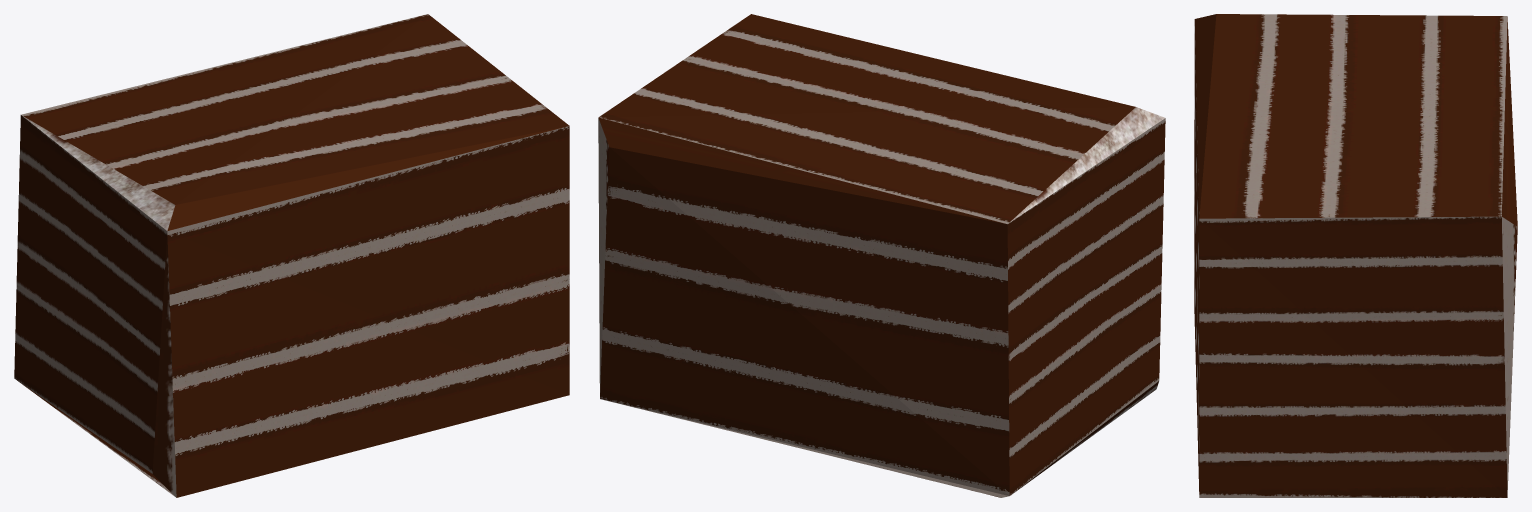
The model's file is snowbox_LOD2.obj.
3 views of the same model, side by side, from view 1: azimuth 30°, elevation 25°; view 2: azimuth 150°, elevation 25°; view 3: azimuth 270°, elevation 25° (orthographic). The views are drawn at different scales.
Parts seen in each view (by area): view 1: Cube_Cube.002; view 2: Cube_Cube.002; view 3: Cube_Cube.002.
Boxes of the visible parts, x1=… form: Cube_Cube.002: x1=14, y1=14, x2=569, y2=497; Cube_Cube.002: x1=598, y1=14, x2=1165, y2=497; Cube_Cube.002: x1=1194, y1=14, x2=1517, y2=497.
Bounding box in the file's own units: 1.13 × 0.7488 × 0.7371.
2 materials, 2 textured.
